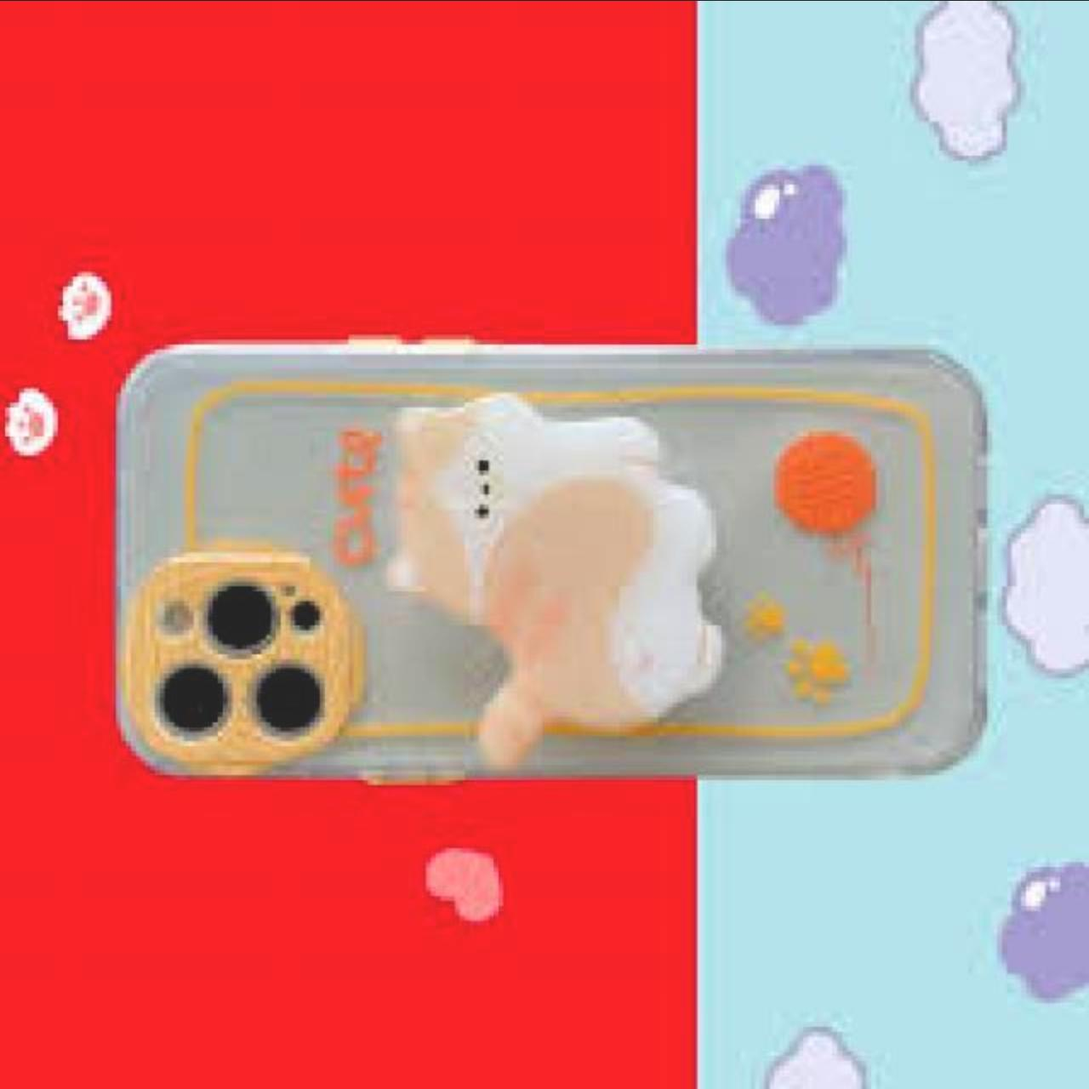phone: (104, 343, 1011, 782)
